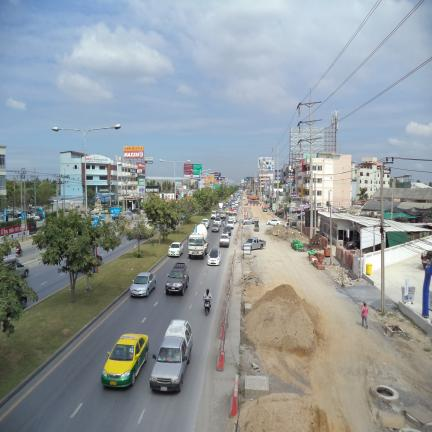car: (150, 335, 192, 392), (164, 320, 193, 349), (165, 262, 189, 295), (130, 272, 156, 296), (168, 242, 183, 256), (208, 248, 220, 265), (421, 250, 432, 268), (220, 233, 230, 247), (266, 218, 283, 225), (223, 226, 232, 236), (226, 220, 234, 229), (214, 216, 221, 226), (212, 224, 220, 232), (262, 206, 267, 212), (188, 358, 189, 362), (167, 330, 168, 332)
human: (361, 302, 368, 329), (203, 288, 212, 304)
motorbike: (204, 299, 210, 316)
pickup: (241, 237, 266, 250), (242, 217, 259, 225), (201, 219, 210, 228), (211, 210, 216, 219)
taxi: (101, 334, 148, 387), (225, 207, 230, 214)
truck: (188, 224, 208, 259), (228, 211, 237, 223)
